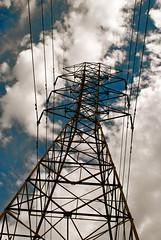power_tower: (0, 56, 138, 240)
